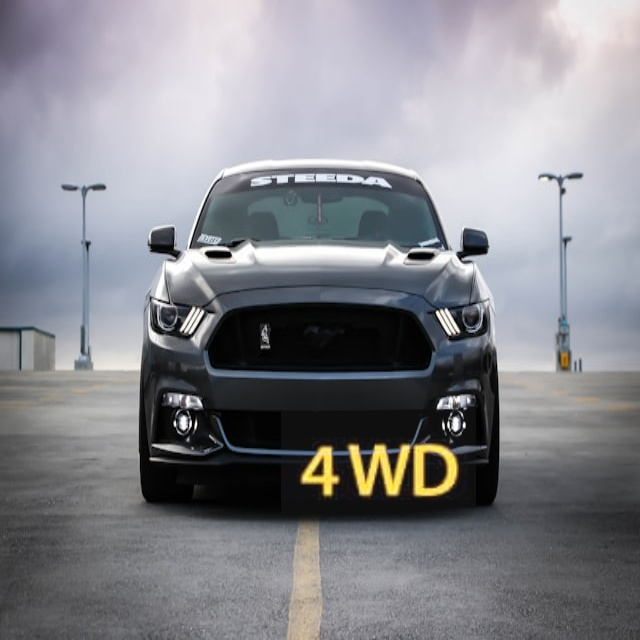symbol: (281, 375, 476, 570)
